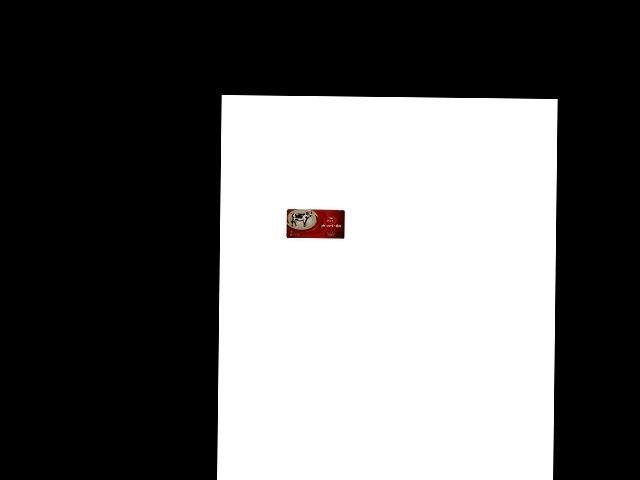chocolate: (286, 209, 346, 240)
